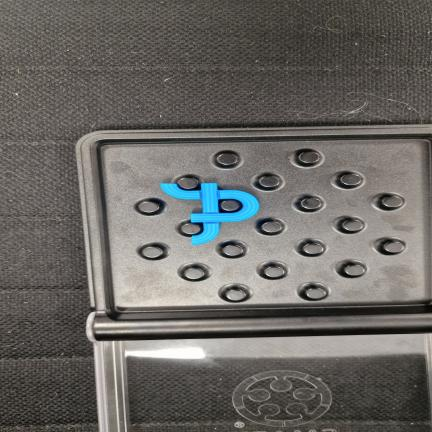B_SkyBlue: (161, 183, 259, 245)
board: (76, 124, 432, 340)
hinge: (90, 309, 432, 340)
pin: (219, 199, 242, 212), (217, 152, 238, 166), (298, 151, 320, 164), (302, 242, 324, 255), (141, 246, 163, 259), (343, 264, 365, 277), (382, 195, 403, 208), (138, 201, 159, 214), (342, 219, 363, 232), (383, 241, 404, 254), (300, 198, 322, 210), (263, 266, 285, 278), (340, 174, 361, 186), (258, 176, 279, 188), (177, 177, 198, 189), (261, 221, 282, 233), (222, 244, 243, 256), (305, 287, 326, 299), (225, 289, 246, 301), (181, 223, 201, 235), (184, 268, 204, 280)
